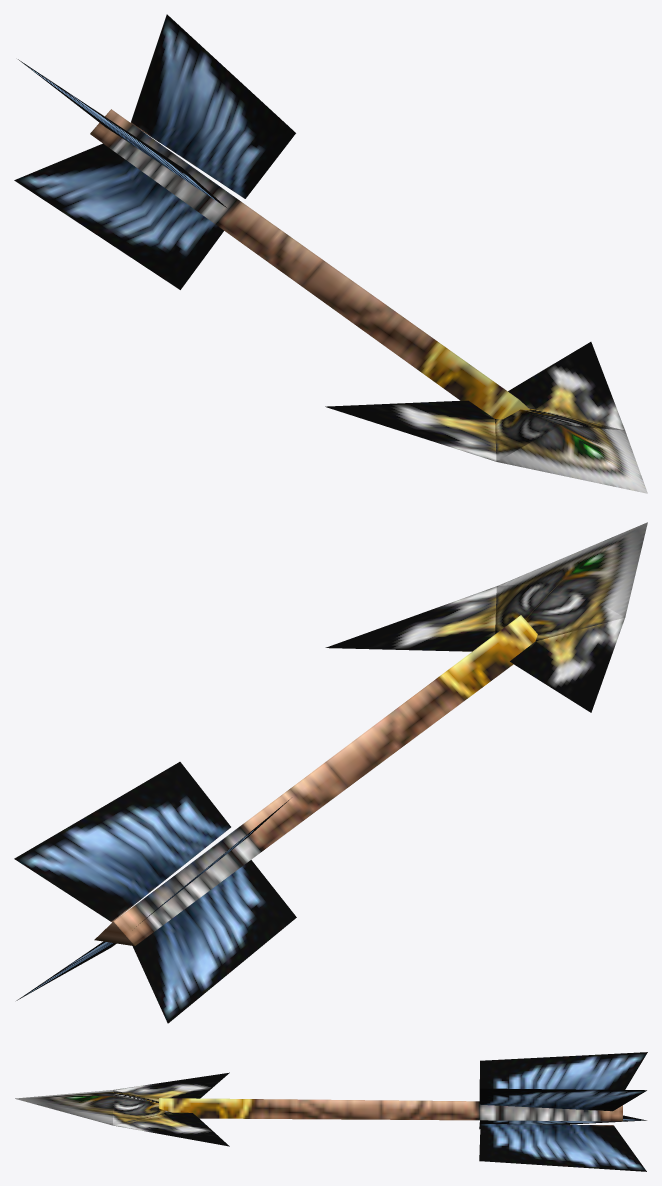
The model's file is BallistaMissile.fbx.
3 views of the same model, one above another, from view 1: azimuth 30°, elevation 25°; view 2: azimuth 150°, elevation 25°; view 3: azimuth 270°, elevation 25° (orthographic). The views are drawn at different scales.
Visible parts, largest first — view 1: Mesh01; view 2: Mesh01; view 3: Mesh01.
Boxes of the visible parts, x1=… form: Mesh01: x1=14, y1=14, x2=647, y2=493; Mesh01: x1=14, y1=522, x2=647, y2=1023; Mesh01: x1=15, y1=1052, x2=647, y2=1171.
Bounding box in the file's own units: 39.54 × 20.36 × 143.
